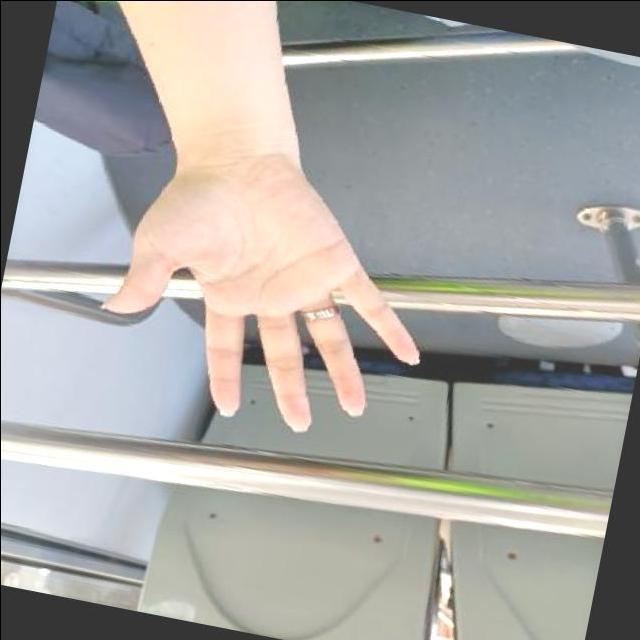hand: (68, 123, 471, 482)
